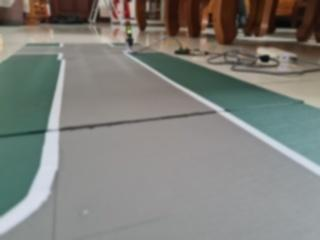green: (120, 15, 137, 39)
